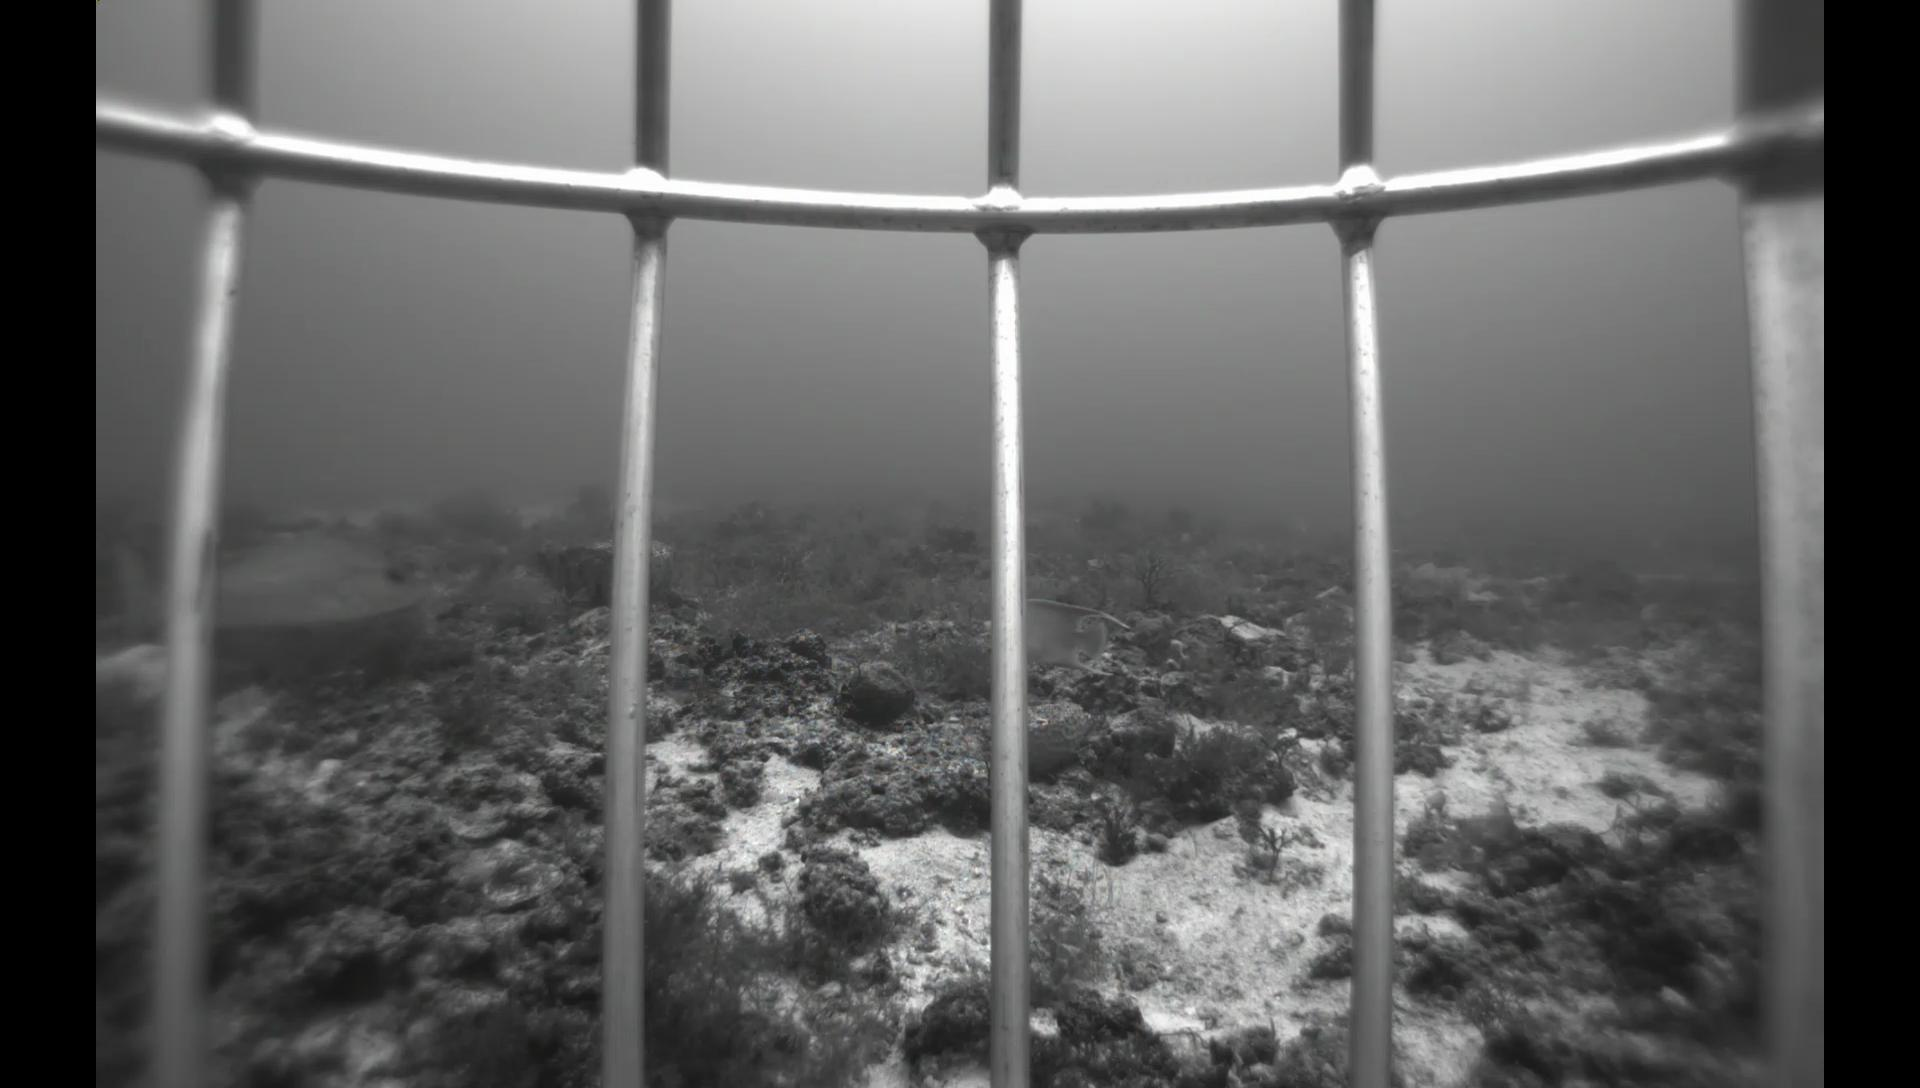HOLACANTHUSBERMUDENSIS-170290102: (975, 593, 1135, 688)
LUTJANUSGRISEUS-170151109: (102, 526, 431, 646)
MYCTEROPERCAPHENAX-170022105: (843, 512, 891, 555)
